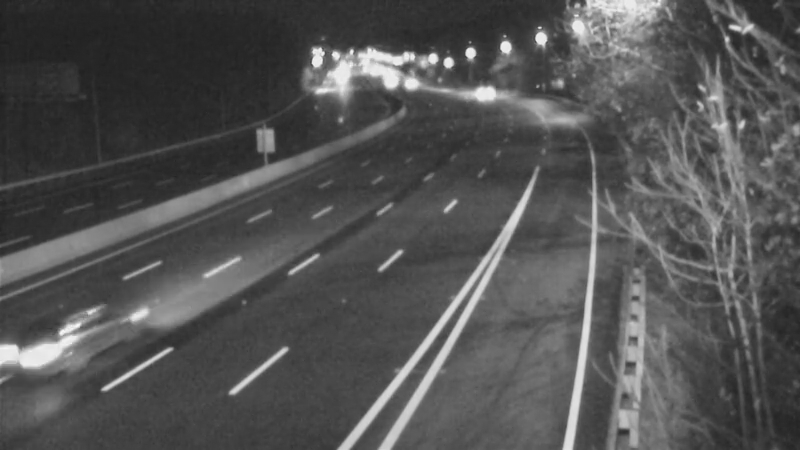vehicle: (21, 279, 131, 389), (364, 57, 414, 107), (380, 59, 430, 109), (454, 70, 504, 120)
